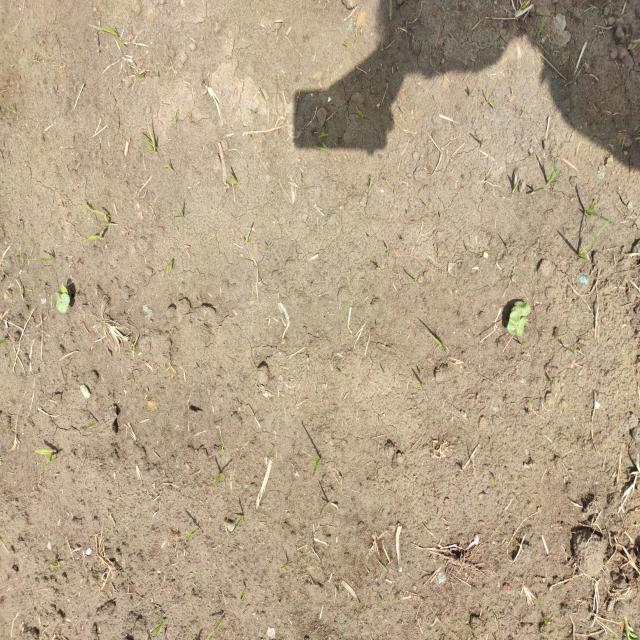seedling_s1: (507, 310, 520, 334), (514, 301, 531, 316), (58, 293, 70, 313), (517, 316, 527, 336), (510, 306, 524, 318), (56, 293, 61, 309), (60, 283, 67, 294)
